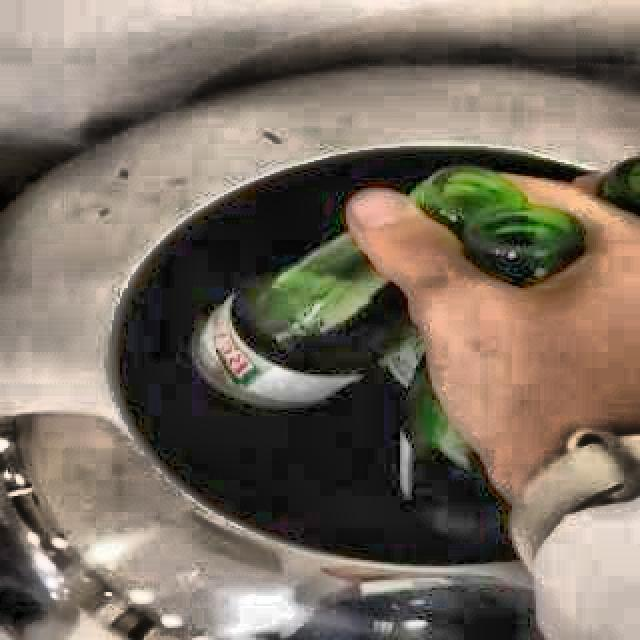glass: (192, 235, 509, 541), (411, 167, 587, 287), (597, 157, 640, 218)
